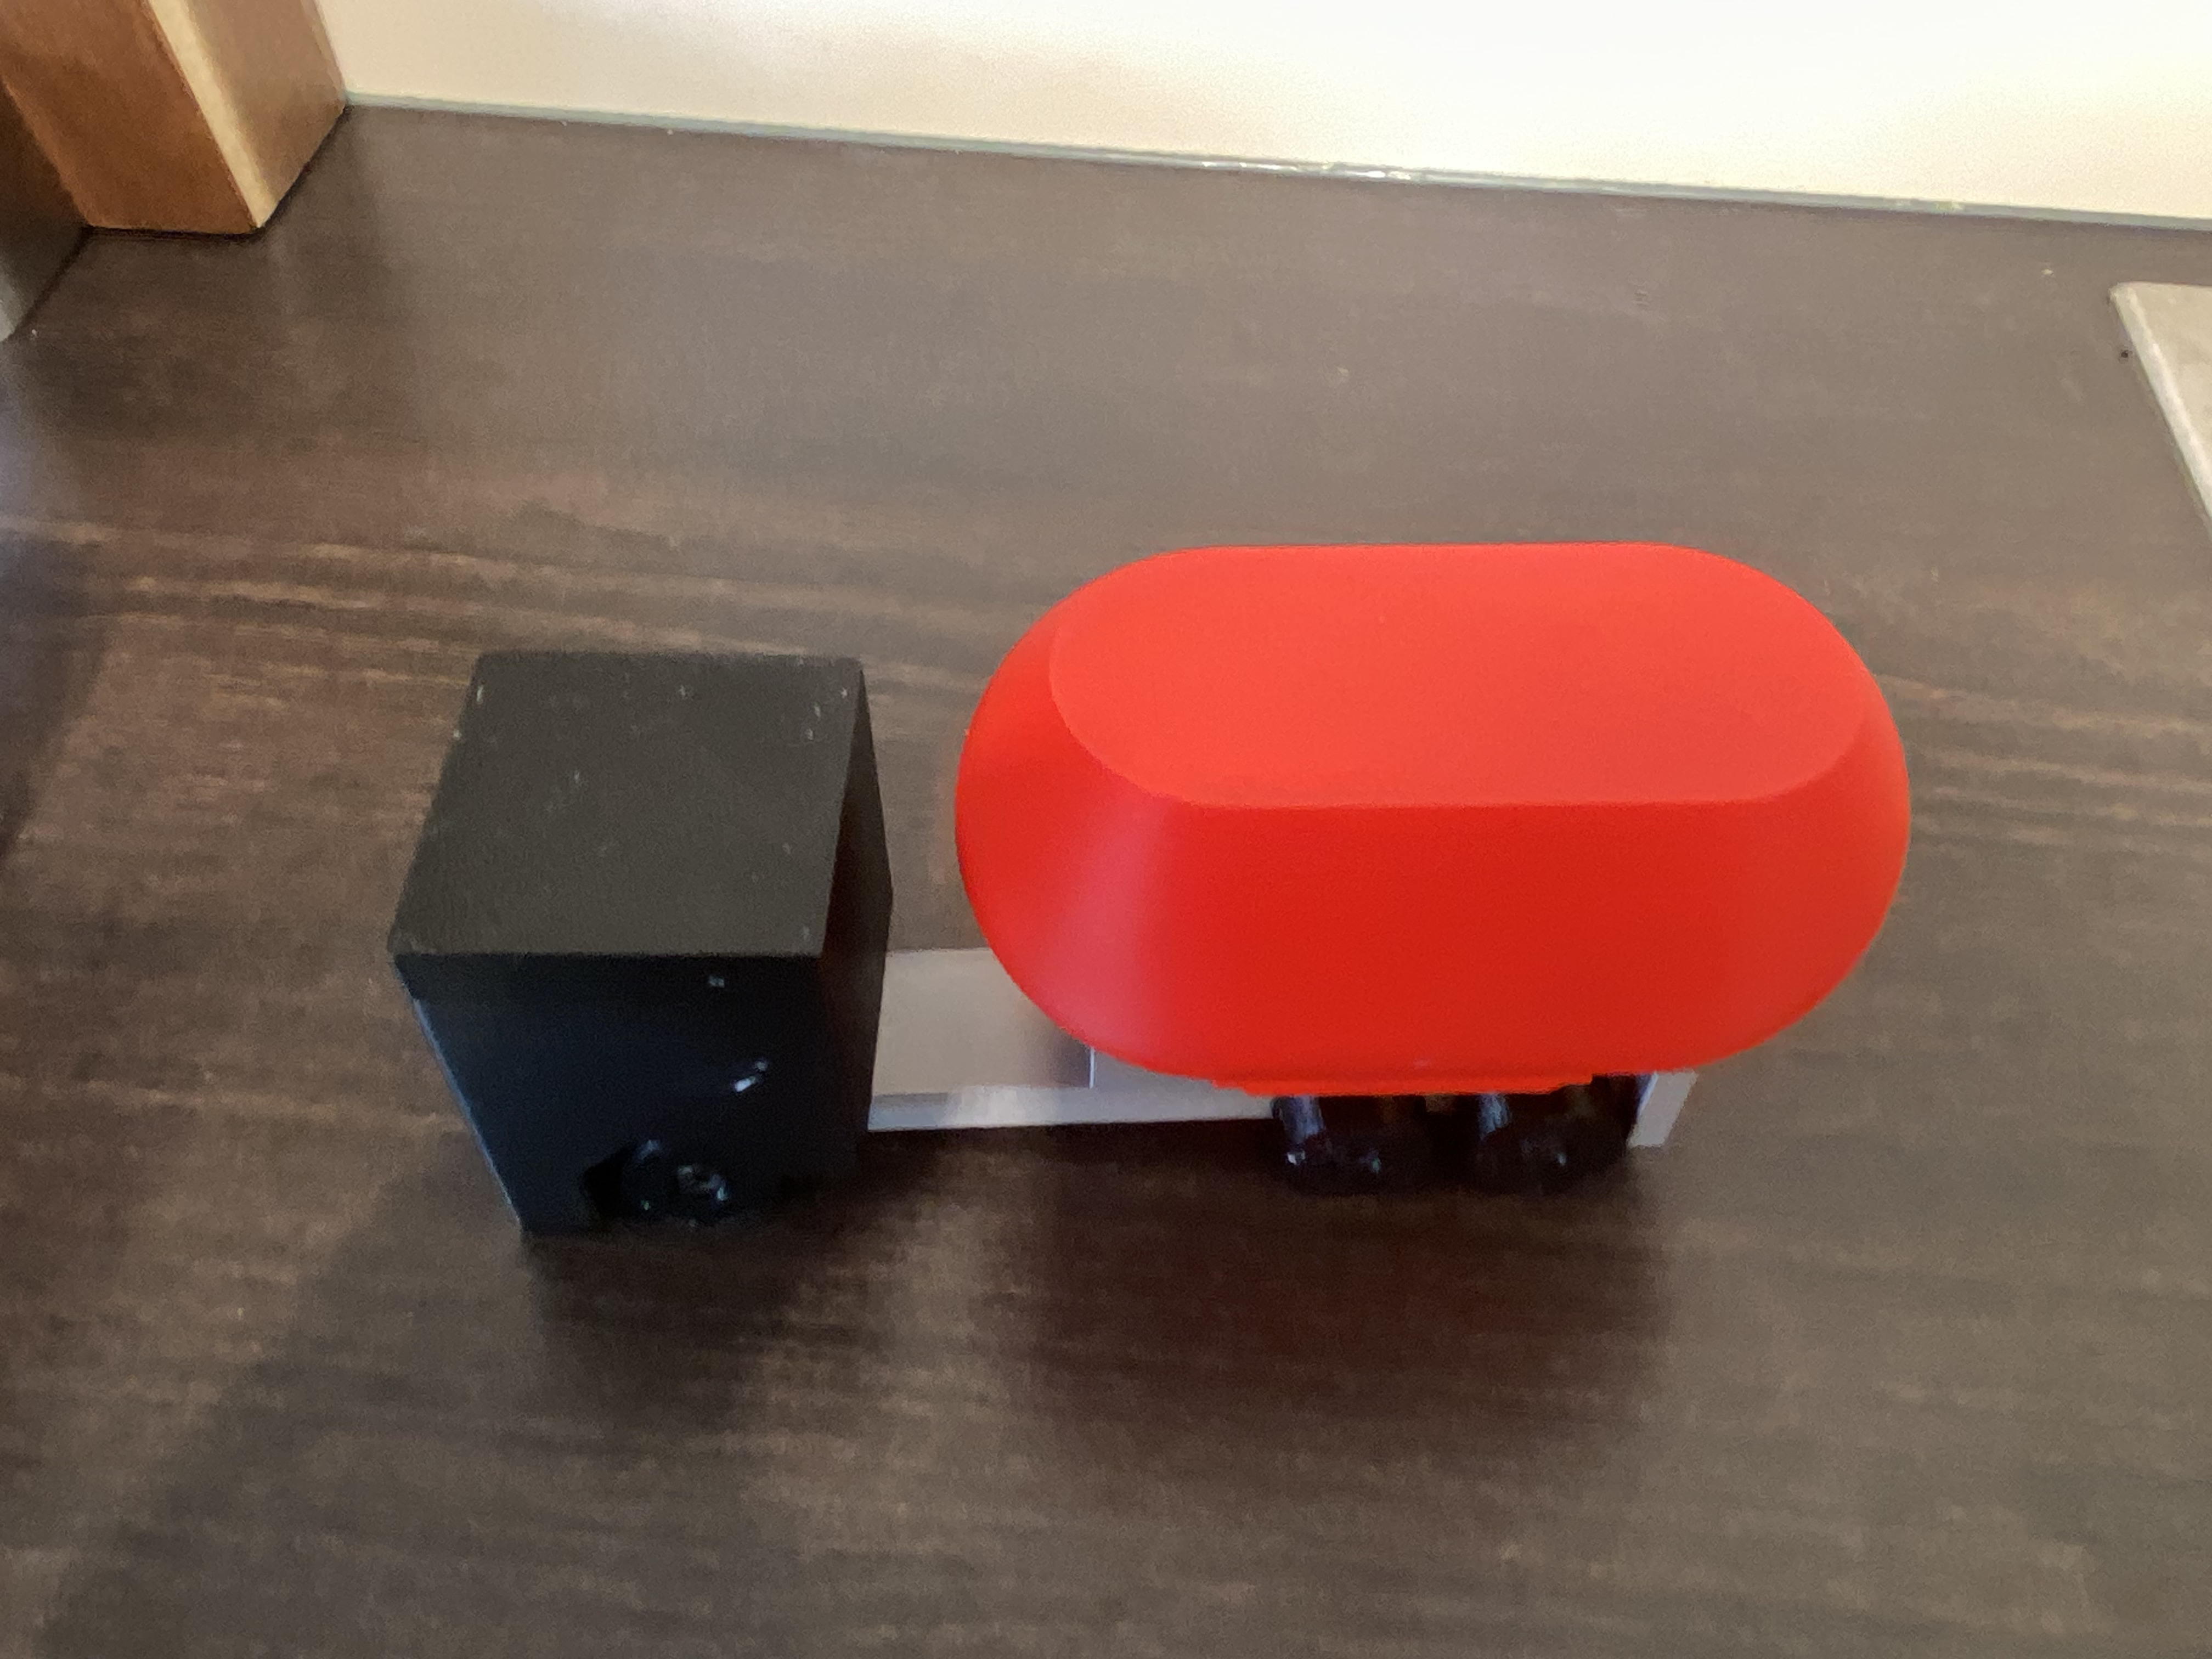red_truck: (388, 551, 1911, 1237)
